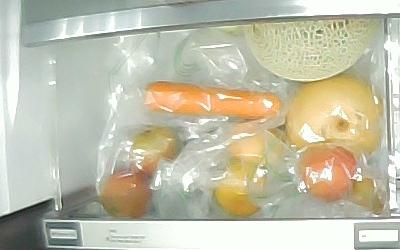carrot_vinyl: (143, 80, 281, 119)
melon: (244, 18, 382, 82)
pear_vinyl: (284, 74, 382, 160)
prune_vinyl: (129, 125, 181, 179), (97, 170, 151, 218), (351, 177, 385, 214)
tangerine_vinyl: (213, 162, 268, 216), (224, 121, 283, 170)
tomato_vinyl: (296, 144, 357, 203)
